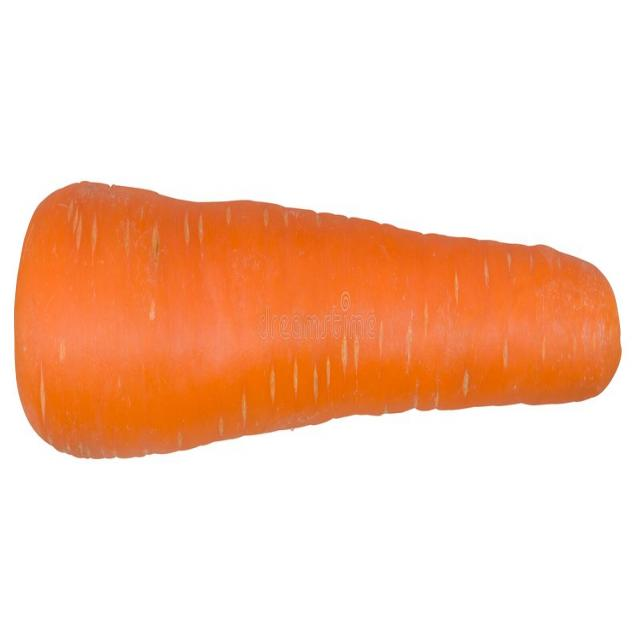Carrot: (14, 176, 623, 462)
